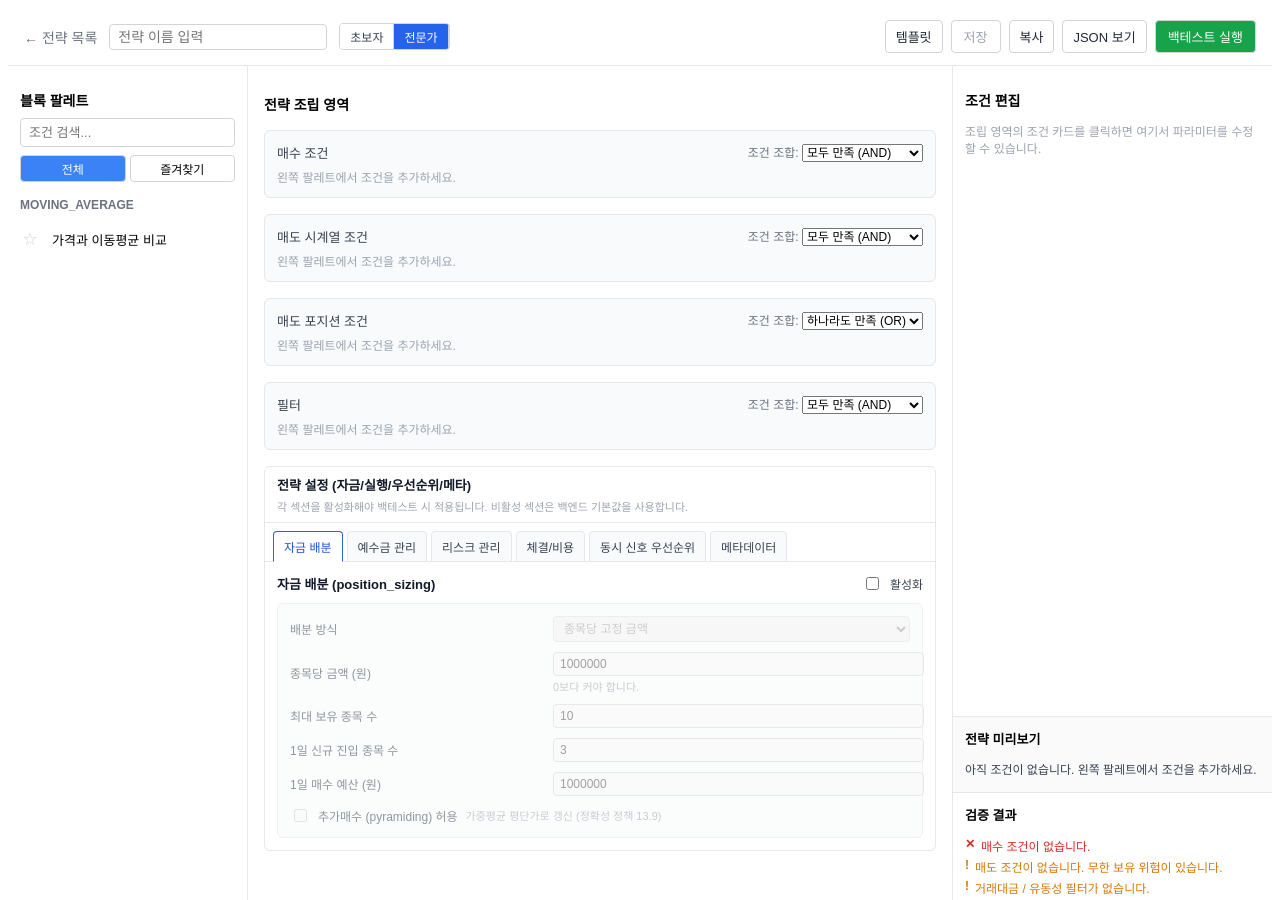
Test: ConditionEditorPanel › 팔레트 클릭 → 자동 선택 → 편집 패널이 폼 표시
The width and height of the screenshot is (1280, 900).
What coordinates should you click on to do the following:
click the button "가격과 이동평균 비교"
I would click on:
 (140, 239)
Its box is [44, 224, 235, 255].
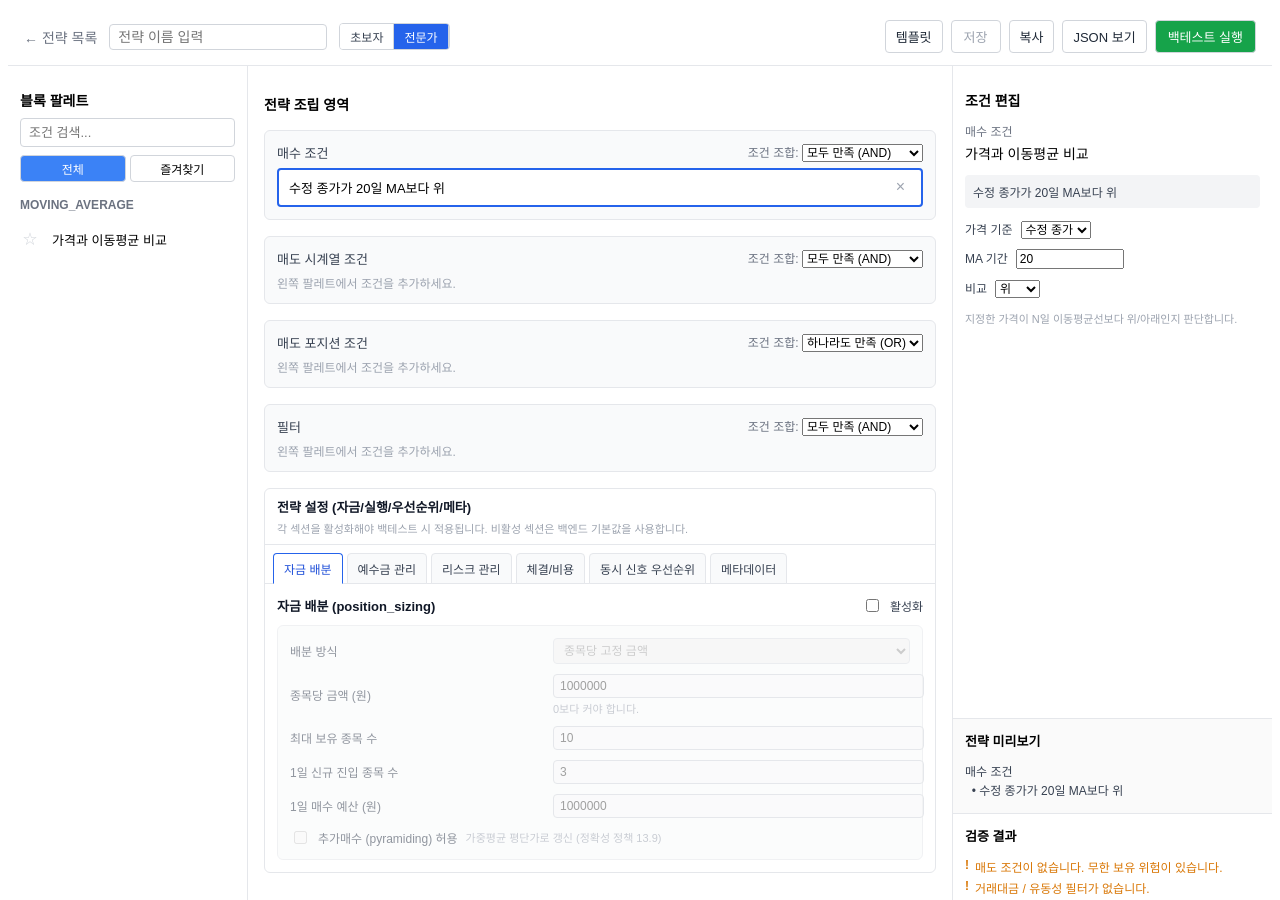
Now the dropdown labelled "가격 기준" is shown, box [1020, 221, 1090, 239]
Now the number field labelled "MA 기간" is shown, box [1016, 249, 1124, 269]
Now the dropdown labelled "비교" is shown, box [995, 280, 1040, 298]
